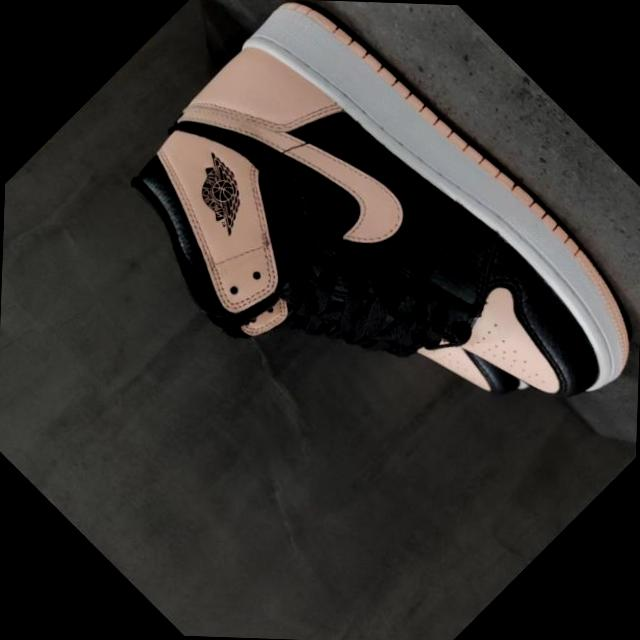nike_fake_jordan: (71, 0, 640, 564)
